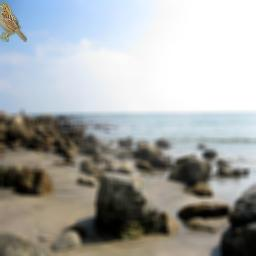Sparrow: (0, 2, 27, 42)
